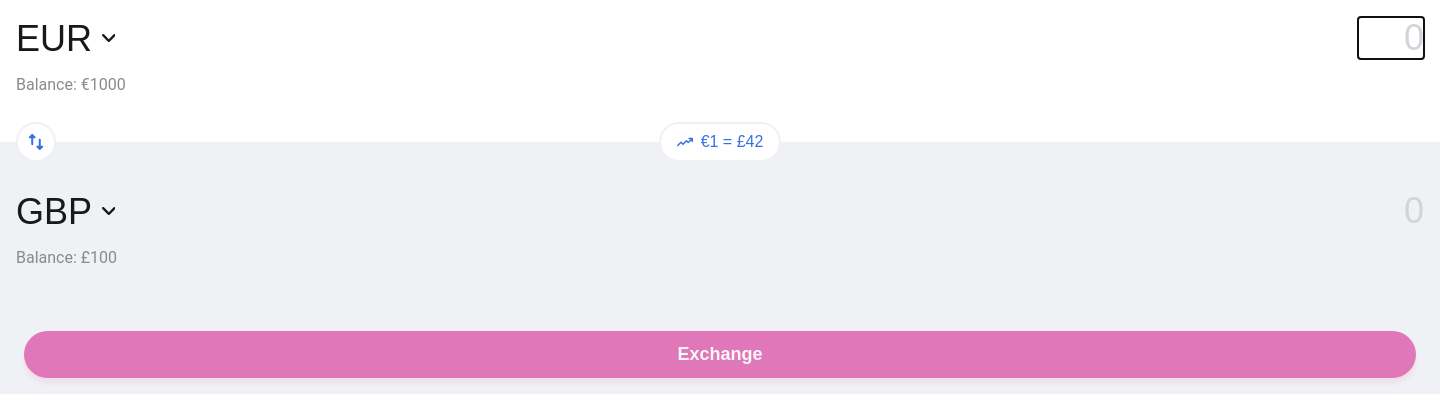
Test: <ExchangeWidget /> › should allow changing the "to" currency
Step 1. Select "USD" in the dropdown named "Convert to currency" → (66, 211), box x1=16 y1=190 x2=115 y2=232
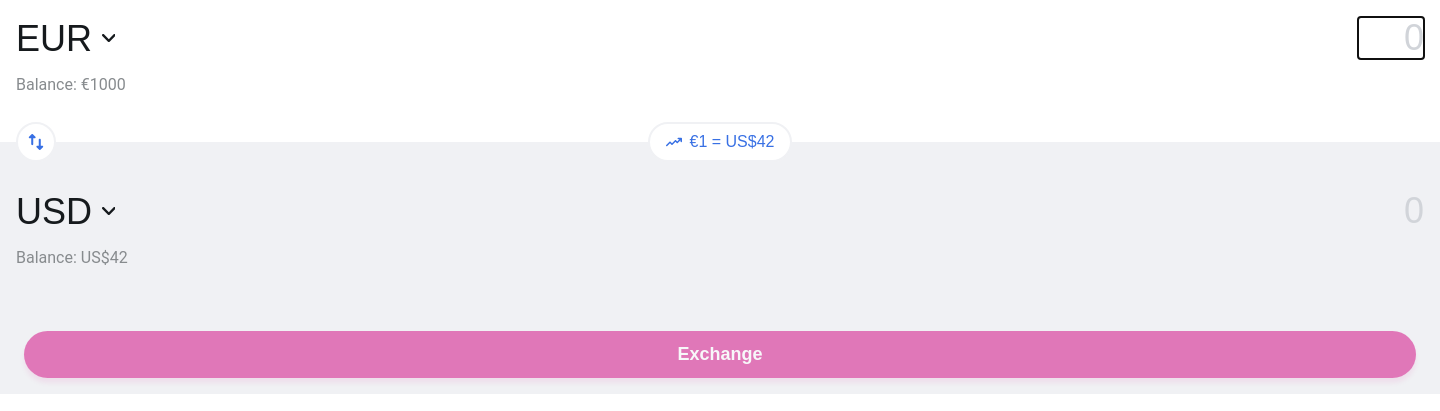
Result: the text "Balance: US$42" is shown at x1=16 y1=248 x2=128 y2=267
